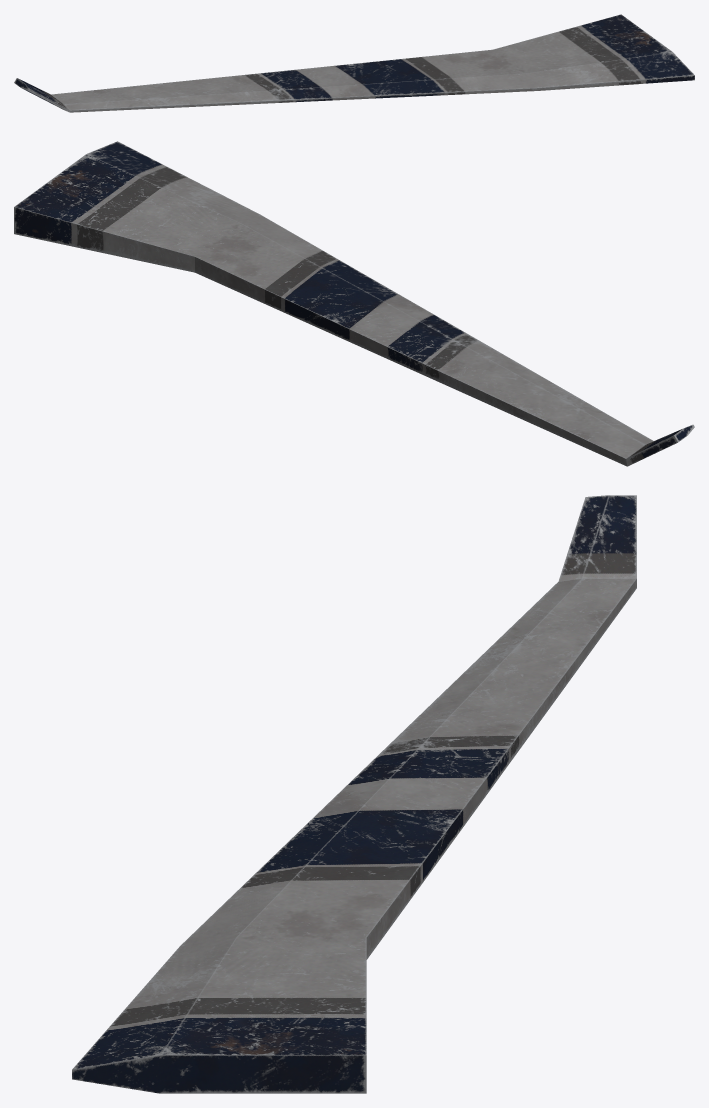
Rendered from wing_l_4.R.fbx.
3 views of the same model, one above another, from view 1: azimuth 30°, elevation 25°; view 2: azimuth 150°, elevation 25°; view 3: azimuth 270°, elevation 25° (orthographic). The views are drawn at different scales.
Parts seen in each view (by area): view 1: wing_l_4.R; view 2: wing_l_4.R; view 3: wing_l_4.R.
Boxes of the visible parts, bbox=[...] form: wing_l_4.R: bbox=[14, 14, 694, 112]; wing_l_4.R: bbox=[14, 141, 694, 466]; wing_l_4.R: bbox=[72, 495, 636, 1093].
Bounding box in the file's own units: 92.25 × 6.09 × 41.81.
